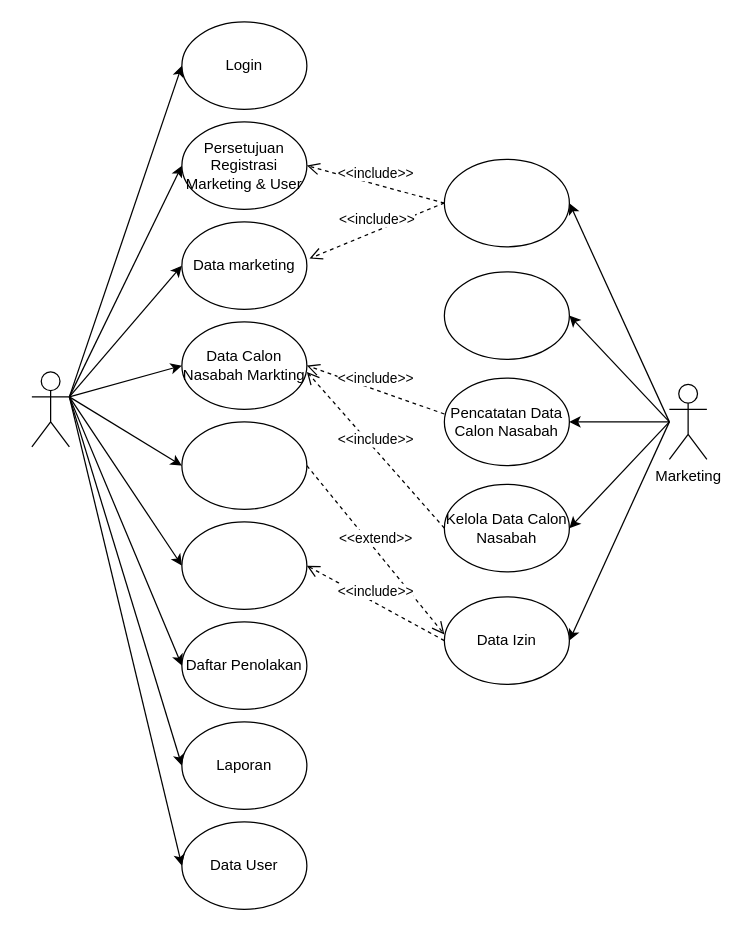
The diagram is 743 pixels wide and 931 high, and some of its shapes have lost their labels. Here are the shapes that lost their labels. From the top down, the centre of each, then its label:
At pixel 506 202: "Registrasi".
At pixel 506 315: "Melakukan Login".
At pixel 50 409: "Manager".
At pixel 244 465: "Daftar izin".
At pixel 244 565: "Persetujuan Izin".
